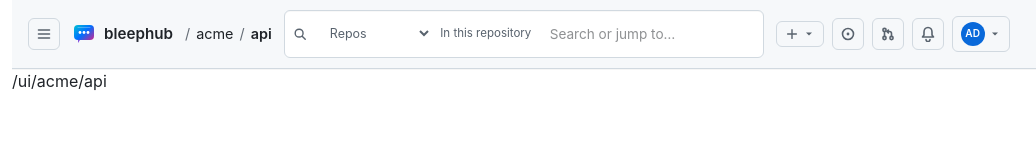
Test: AppHeader menus › scopes header search to the current repository
Expected: the text "In this repository" is shown, top-left (440, 25), bottom-right (531, 43)
Step 1. Type "flaky test" into the search field named "Search in acme/api" → (647, 34), box top-left (539, 16), bottom-right (754, 52)
Then press Enter
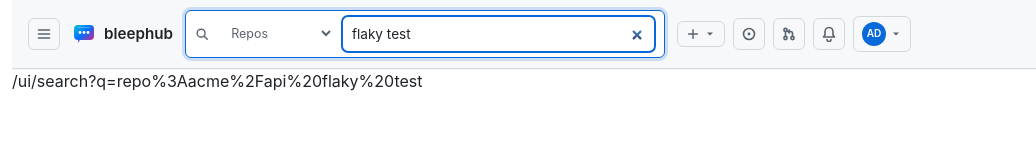
Result: the text with test id "loc" shows "/ui/search" at top-left (12, 71), bottom-right (422, 91)
